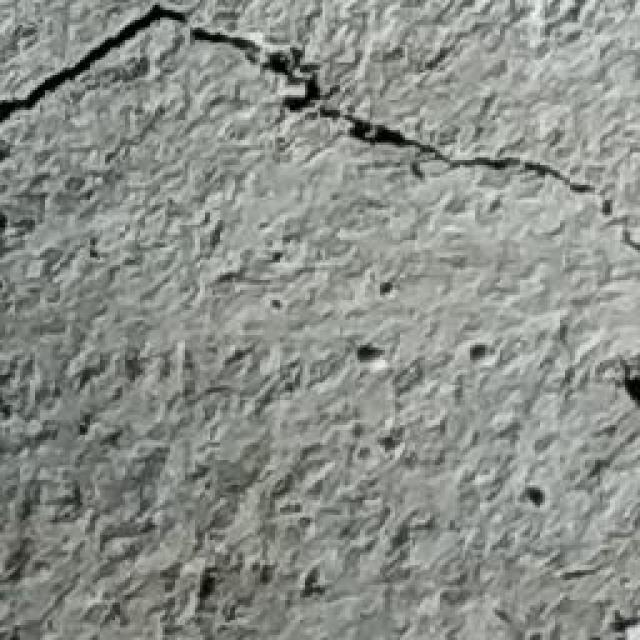Rippled: (0, 250, 640, 640)
Transverse: (0, 0, 640, 238)
